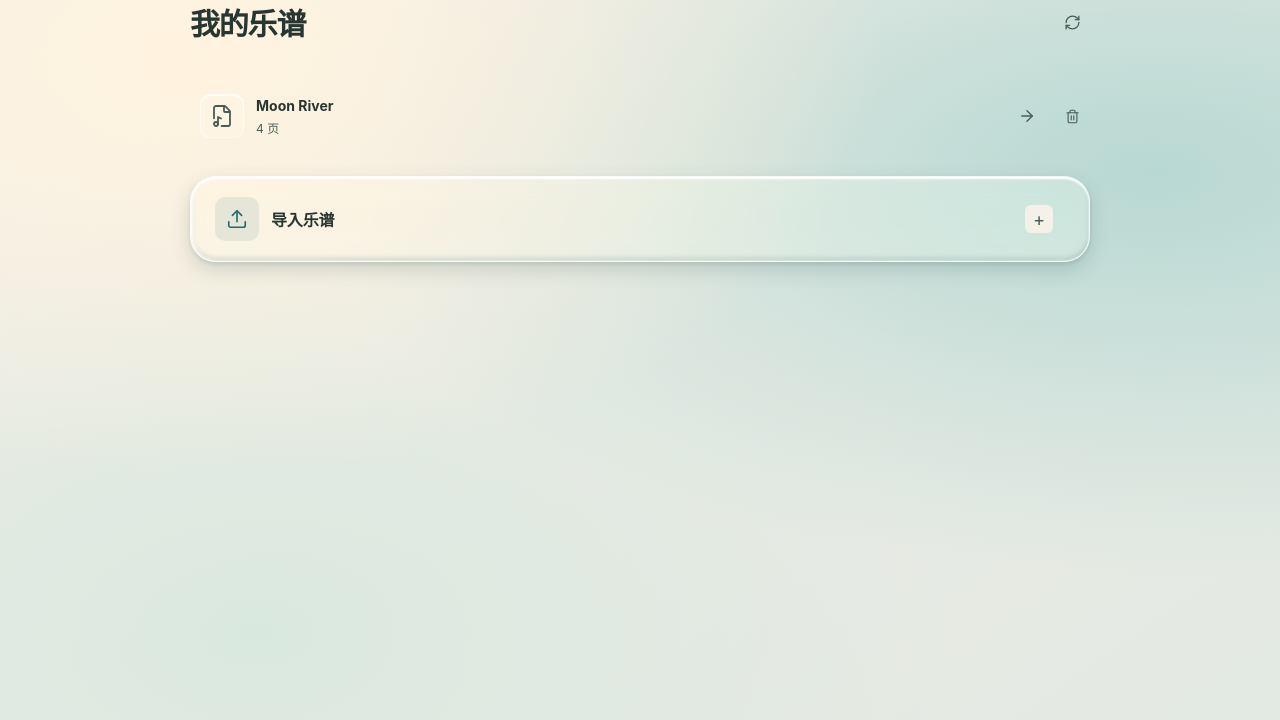
Scenario: ImportForm › deletes a saved work locally
Click the button named "删除 Moon River" at (1072, 116), box [1054,98,1090,134]
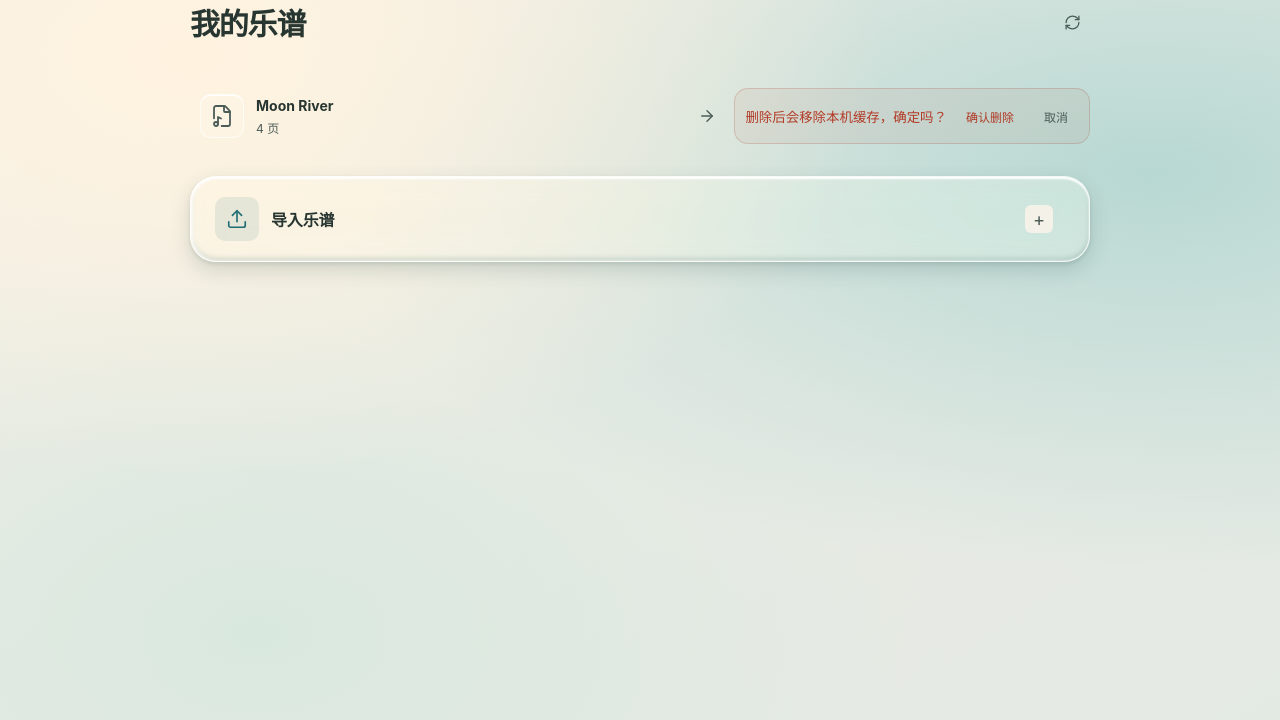
Click the button "确认删除" at (990, 116), box [955,99,1025,133]
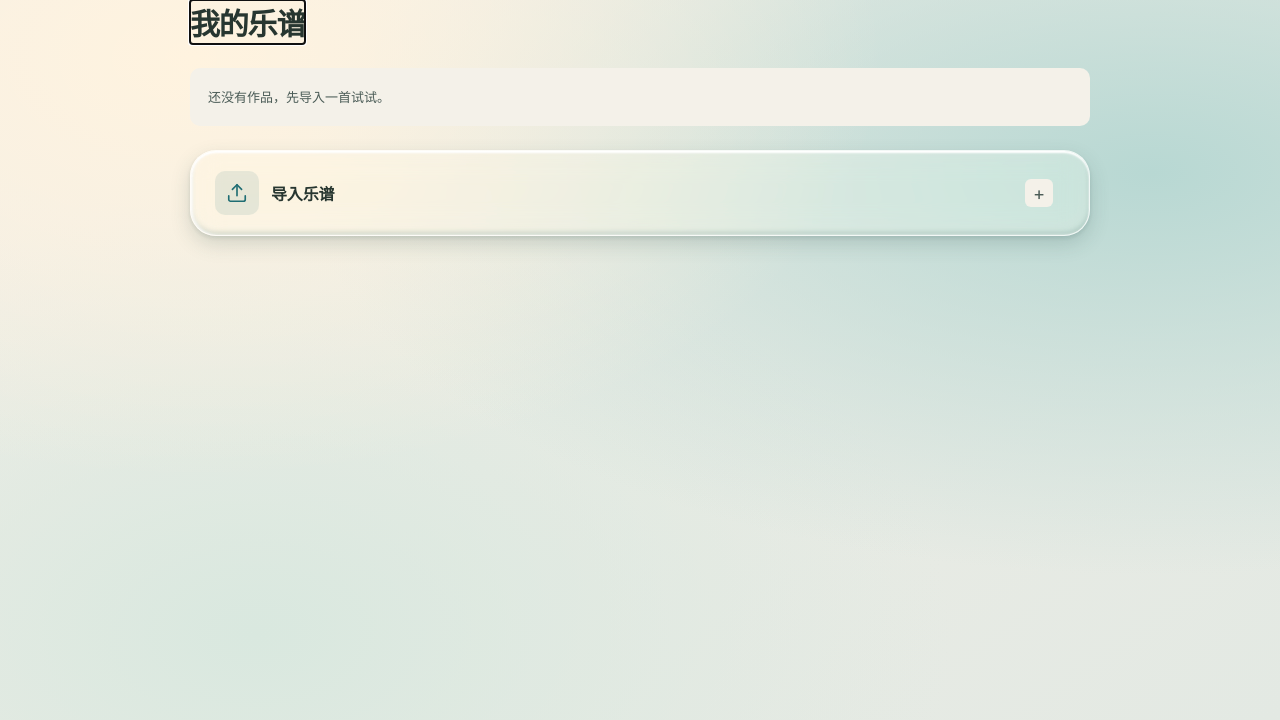
Check: the link "Moon River" is gone
